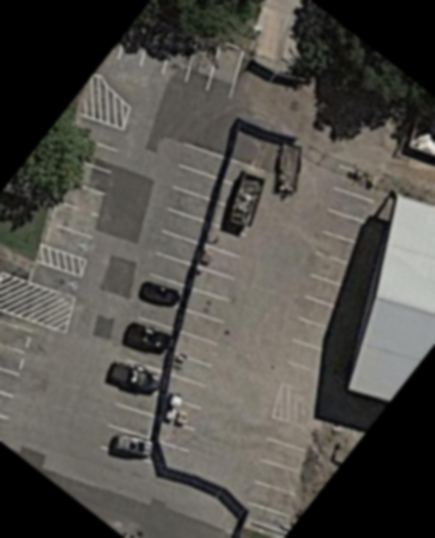parkingspot: (99, 139, 228, 464), (283, 162, 386, 380), (166, 220, 249, 412), (42, 112, 128, 261), (115, 16, 247, 101), (245, 414, 318, 520), (0, 315, 40, 444), (28, 259, 86, 301)
